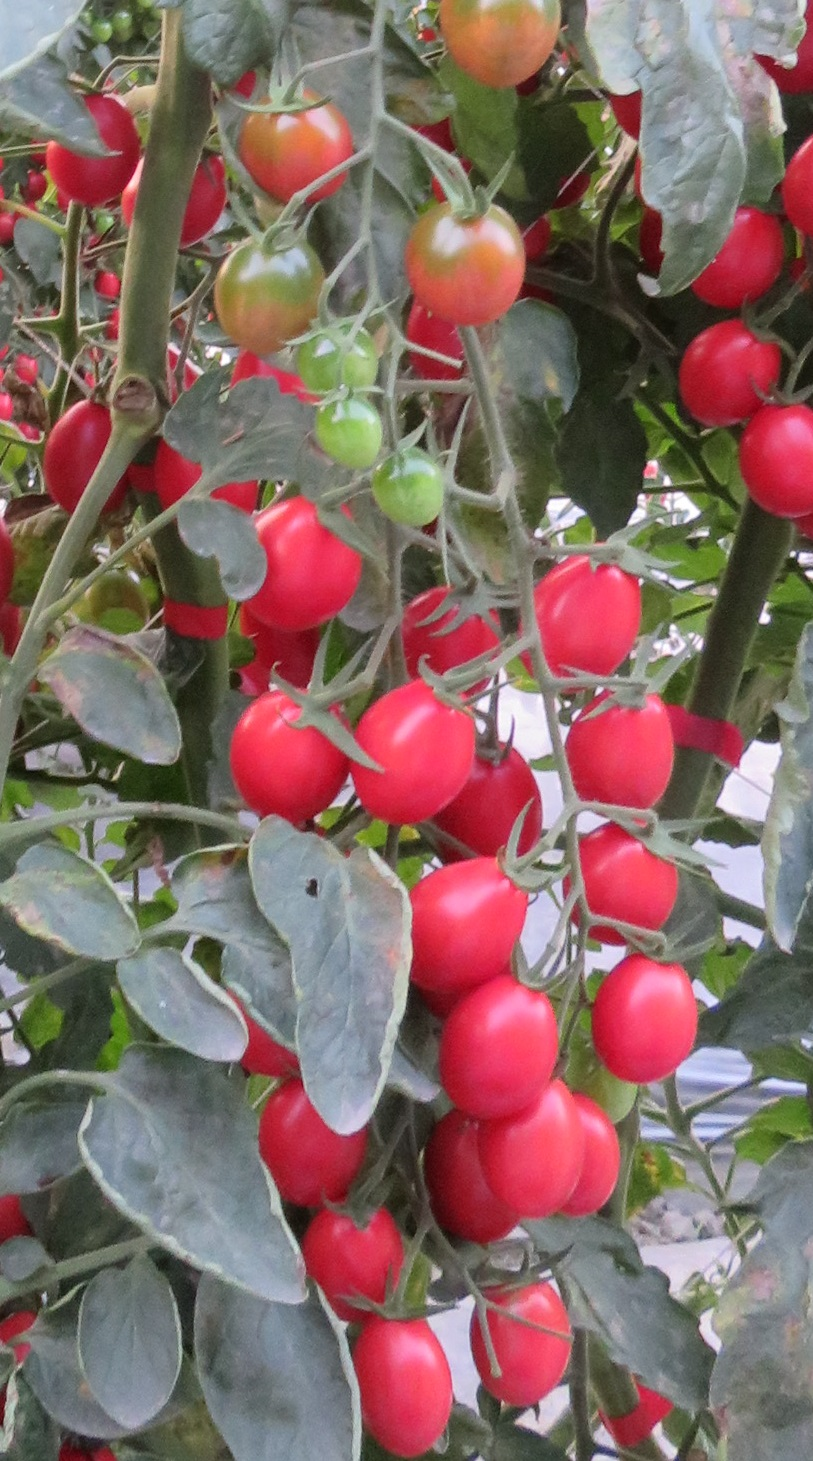green: (203, 221, 338, 351), (368, 450, 453, 533), (311, 398, 393, 474), (303, 310, 374, 390)
orange: (411, 198, 529, 345), (229, 90, 361, 207), (426, 1, 570, 97)
red: (512, 539, 653, 707), (349, 669, 474, 831), (403, 856, 534, 1006), (221, 684, 344, 830), (237, 498, 361, 639), (444, 971, 553, 1128), (565, 669, 670, 827), (476, 1275, 584, 1418), (355, 1306, 453, 1453), (602, 950, 714, 1075), (670, 319, 779, 447), (574, 824, 700, 933), (484, 1101, 587, 1227), (264, 1094, 368, 1212), (311, 1194, 414, 1307), (447, 737, 545, 853), (405, 588, 510, 695), (50, 93, 142, 202), (32, 394, 114, 515), (697, 213, 793, 309), (738, 404, 813, 510)
